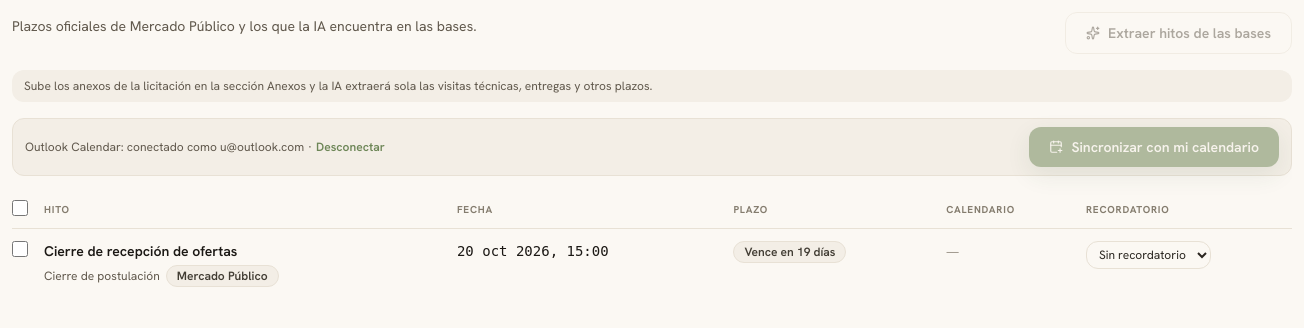
Test: MilestonesSection › botón Sincronizar con mi calendario (criterio 2) › con un solo calendario configurado el botón sincroniza directo, sin menú
Click the checkbox named "seleccionar cierre" at x=20, y=249, box [12,241,28,257]
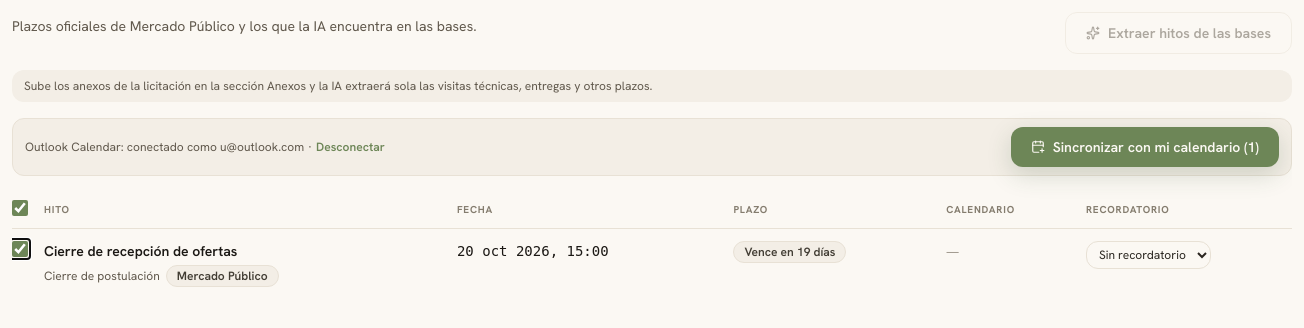
Click the button "Sincronizar con mi calendario (1)" at x=1145, y=147, box [1011,127,1279,167]
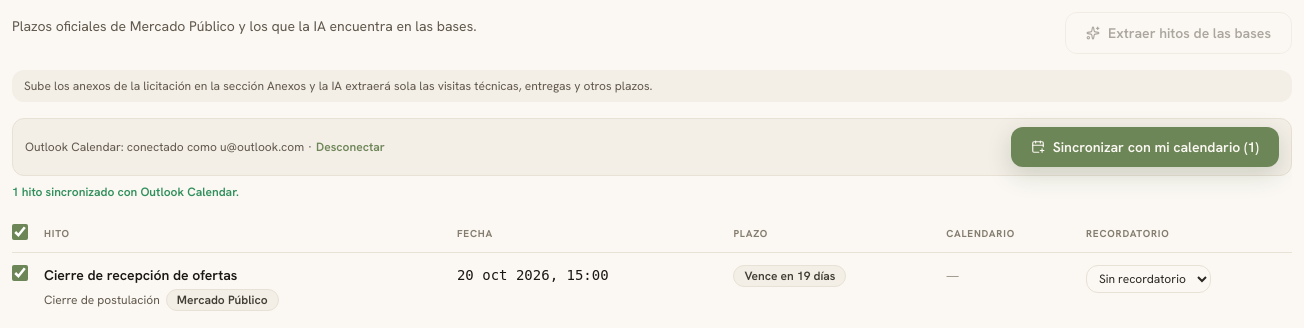
Now the text "1 hito sincronizado con Outlook Calendar." is shown, box [12,184,239,200]
